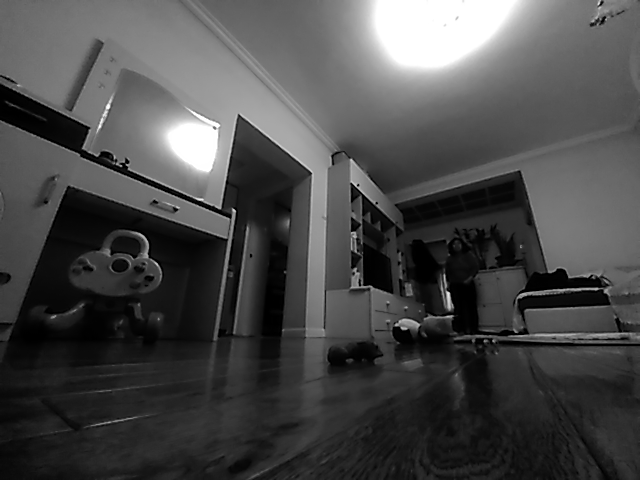carpet: (454, 330, 640, 344)
pet feces: (326, 339, 384, 368)
toy: (32, 282, 166, 342)
